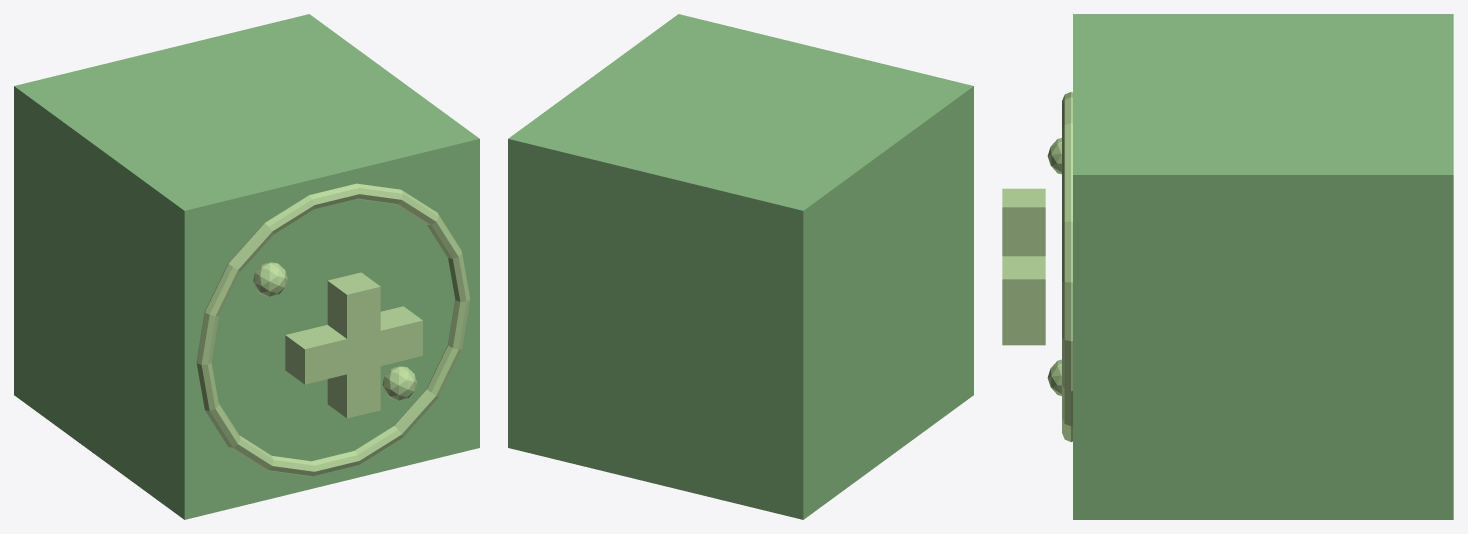
File: heilung.glb
The picture shows the model from 3 angles, left to right: view 1: azimuth 30°, elevation 25°; view 2: azimuth 150°, elevation 25°; view 3: azimuth 270°, elevation 25°; orthographic projection. The views are drawn at different scales.
Visible parts, largest first — view 1: world; view 2: world; view 3: world.
Part boxes in pixels (box(x1,y1,x2,y2)): world: box(14, 14, 479, 519); world: box(508, 14, 973, 519); world: box(1002, 14, 1453, 519).
Bounding box in the file's own units: 1.05 × 1.05 × 1.25.
